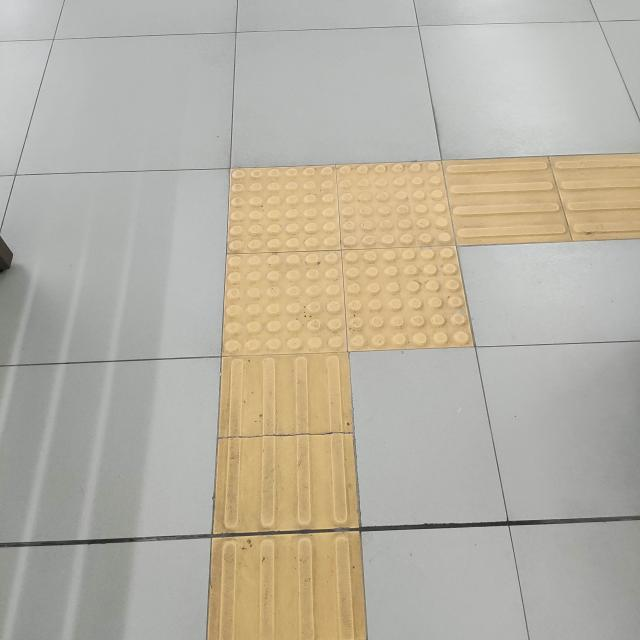kanan: (164, 133, 633, 370)
